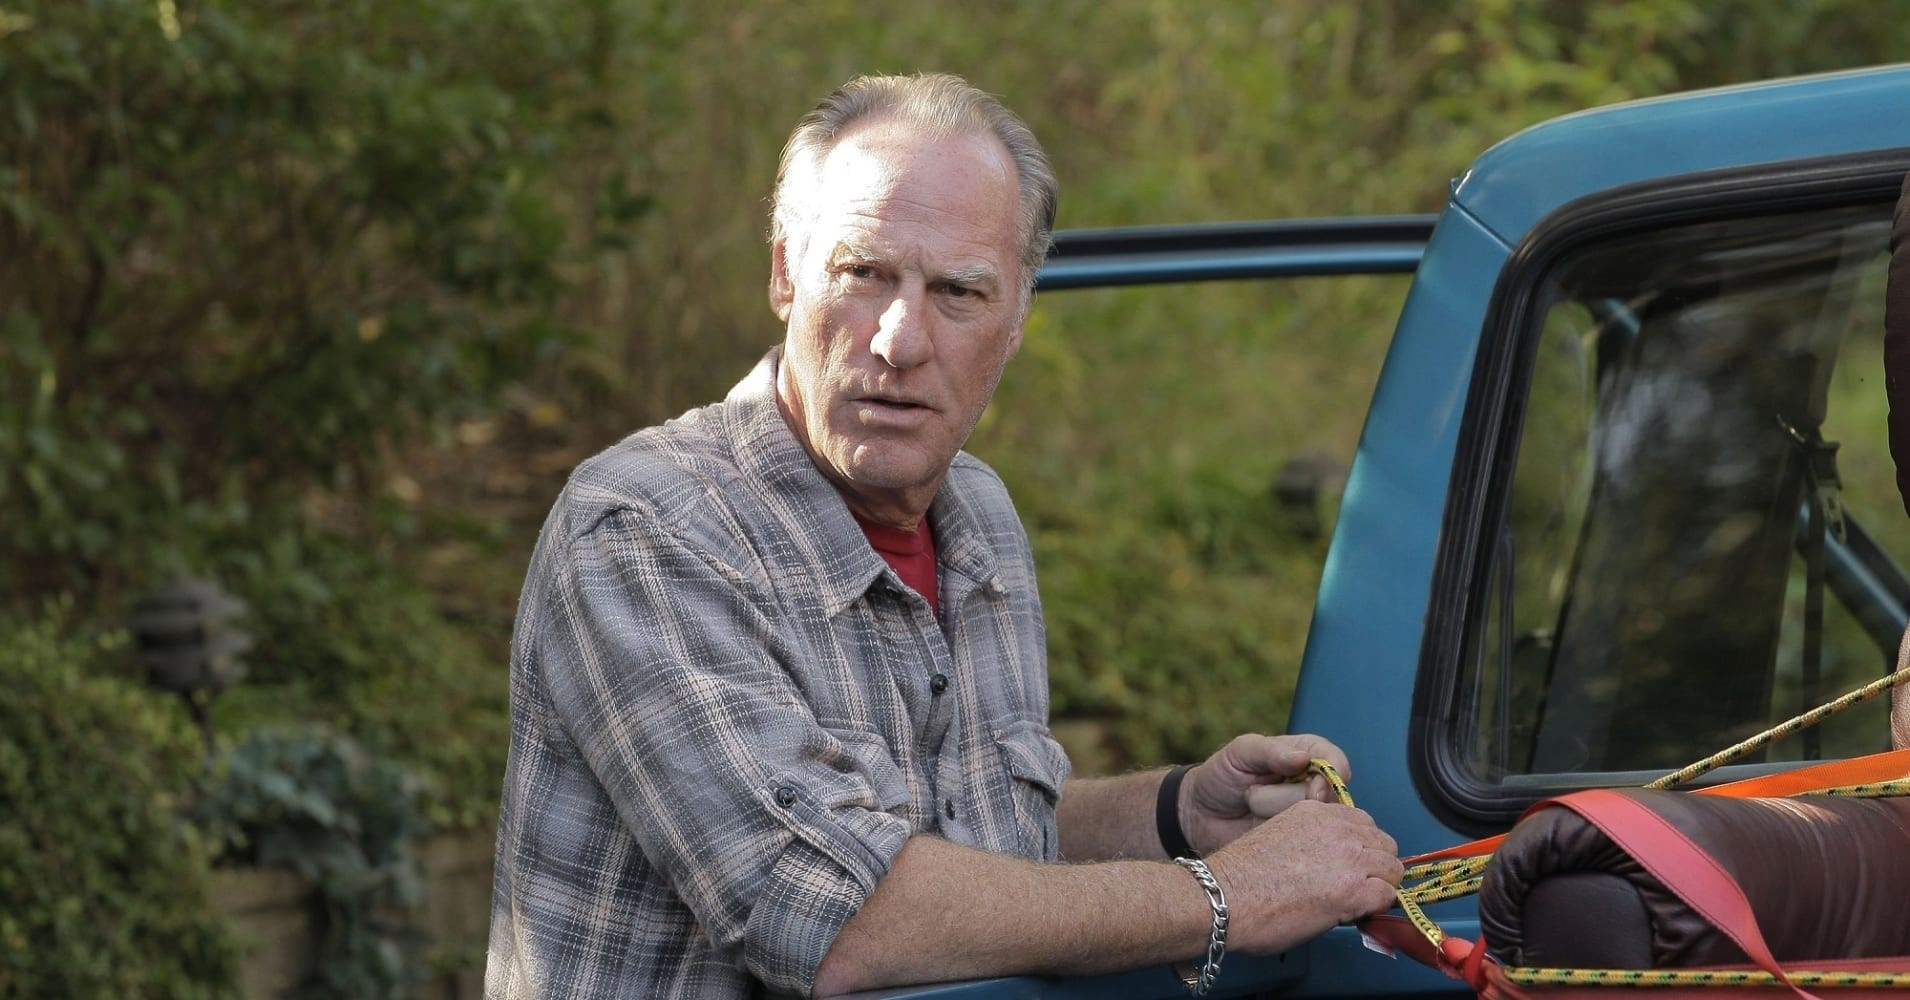face_no_mask: (764, 69, 1061, 489)
